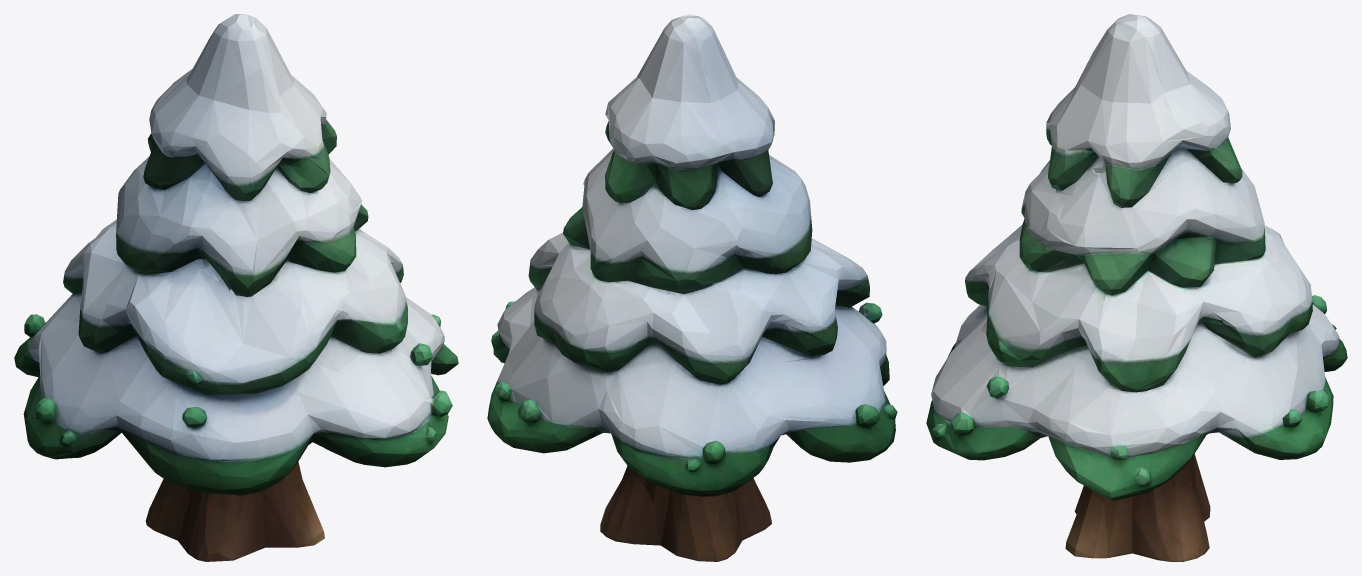
Rendered from tree_pine.glb.
The picture shows the model from 3 angles, left to right: view 1: azimuth 30°, elevation 25°; view 2: azimuth 150°, elevation 25°; view 3: azimuth 270°, elevation 25°; orthographic projection.
Parts seen in each view (by area): view 1: geometry_0; view 2: geometry_0; view 3: geometry_0.
Boxes of the visible parts, box(x1,y1,x2,y2) form: geometry_0: box(14, 14, 458, 561); geometry_0: box(487, 14, 897, 561); geometry_0: box(926, 14, 1347, 561).
Bounding box in the file's own units: 0.8235 × 1 × 0.7429.
1 material, 1 textured.
